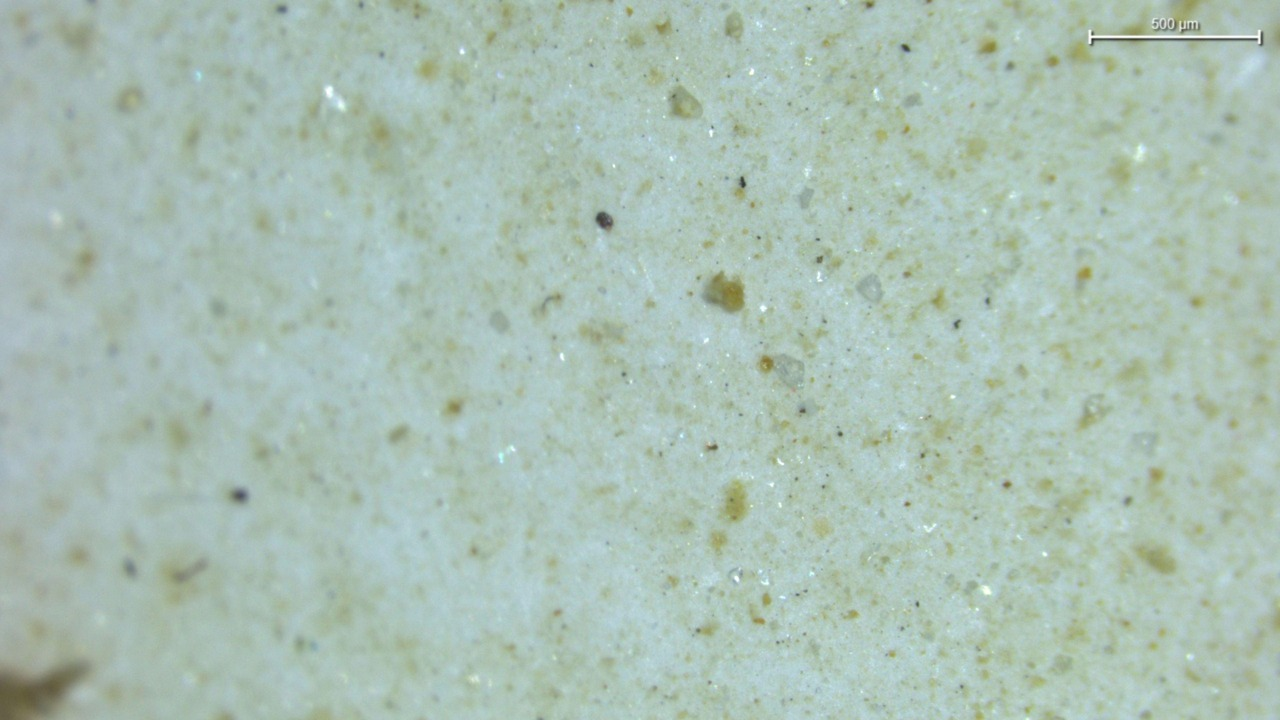microplastic_fragment: (759, 354, 804, 389), (856, 274, 883, 302)
